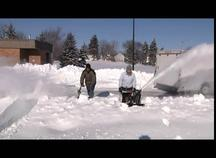sit: (114, 68, 145, 107)
stay: (79, 60, 96, 101)
